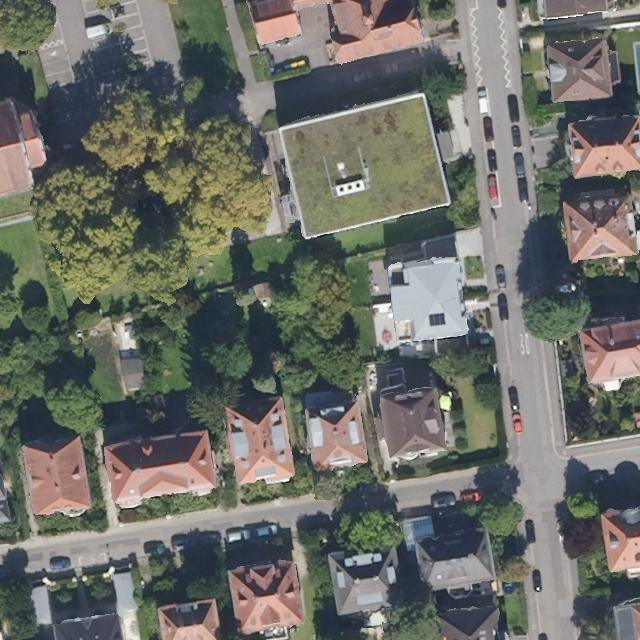PV: (429, 313, 444, 325)
